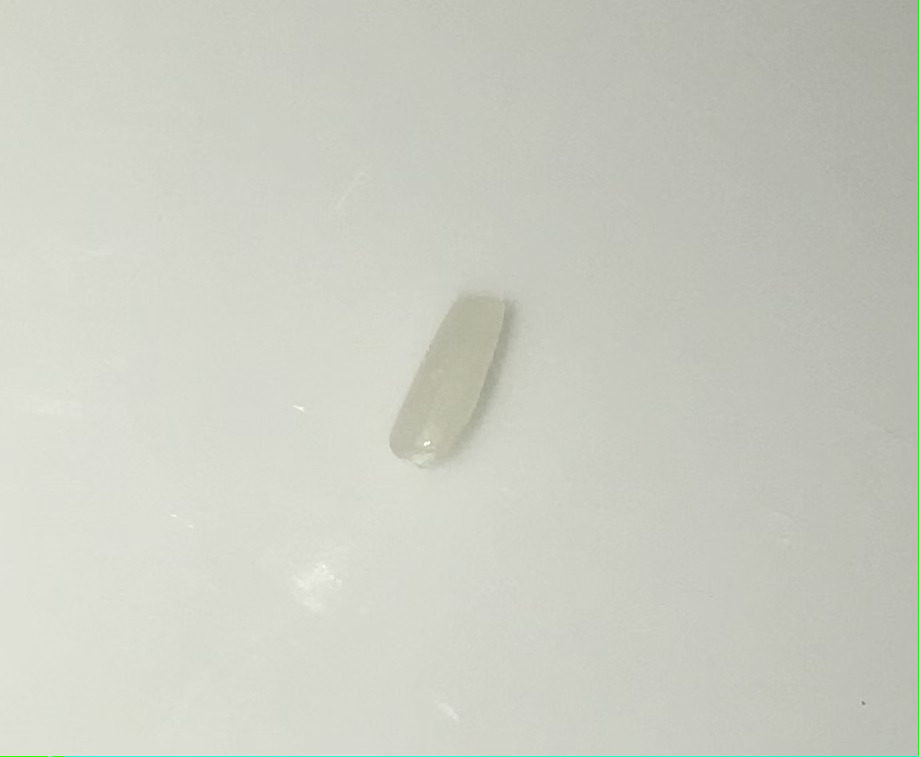Gao Tam: (371, 278, 535, 478)
